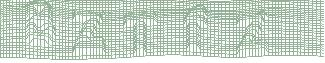8: (22, 1, 57, 48)
T: (121, 11, 160, 57)
Z: (69, 8, 108, 56), (234, 10, 270, 57)
f: (181, 3, 211, 53)
